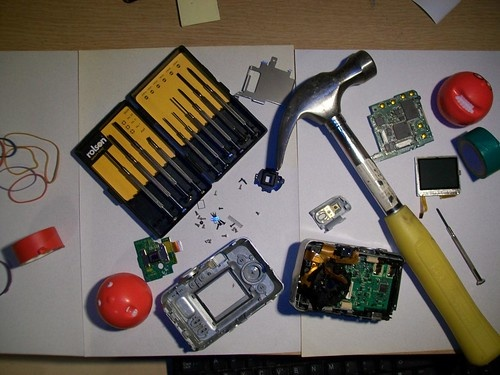hammer: (266, 50, 498, 366)
